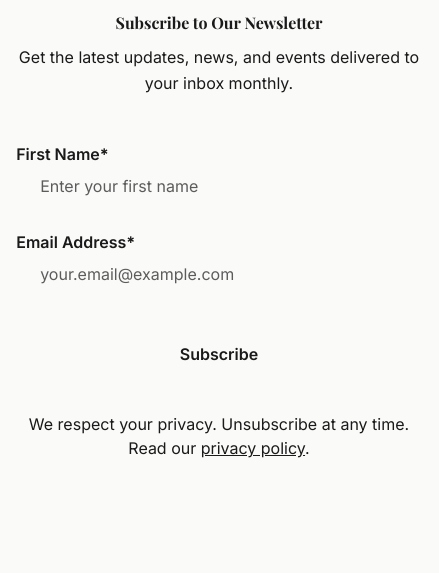
NewsletterSignup › Validation › accepts valid first names with hyphens and apostrophes
Type "Mary-Jane O'Connor" into the field labelled "First Name *" at (219, 186), box left=16, top=164, right=422, bottom=208
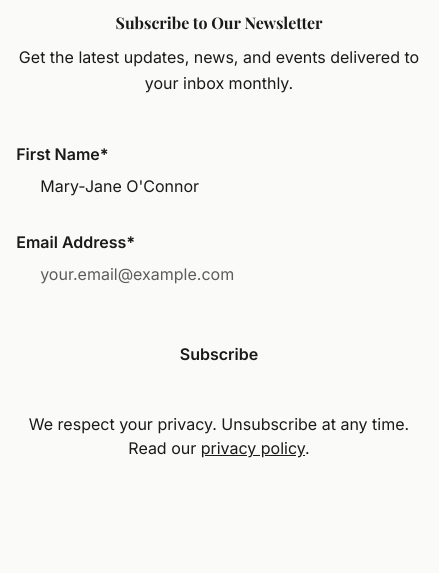
Type "mary@example.com" into the field labelled "Email Address *" at (219, 274), box left=16, top=252, right=422, bottom=296
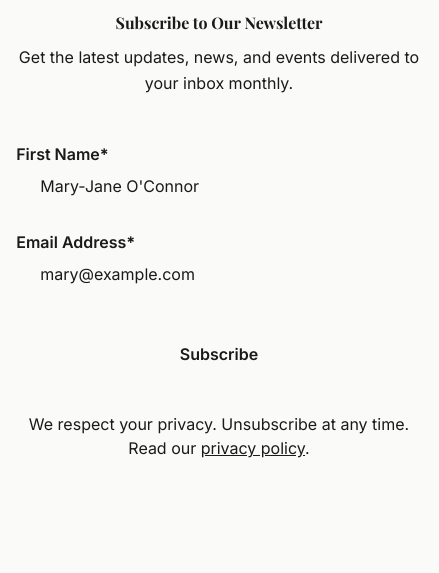
Click the button "Subscribe" at (219, 354), box left=16, top=320, right=422, bottom=388
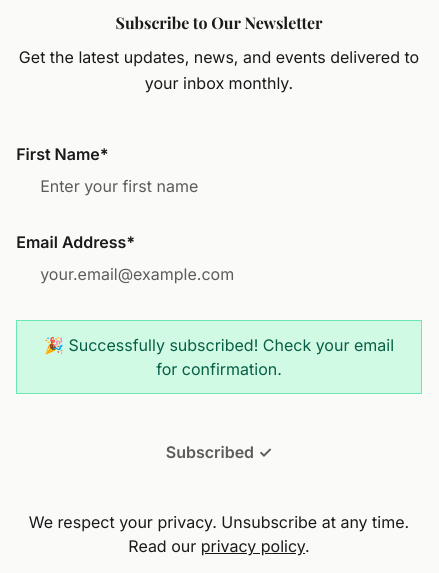
Expected: the text "🎉 Successfully subscribed! Check your email for confirmation." is shown, left=16, top=320, right=422, bottom=394
